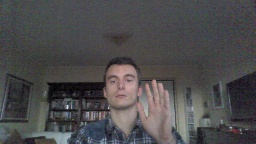Mano_aperta: (134, 76, 173, 142)
